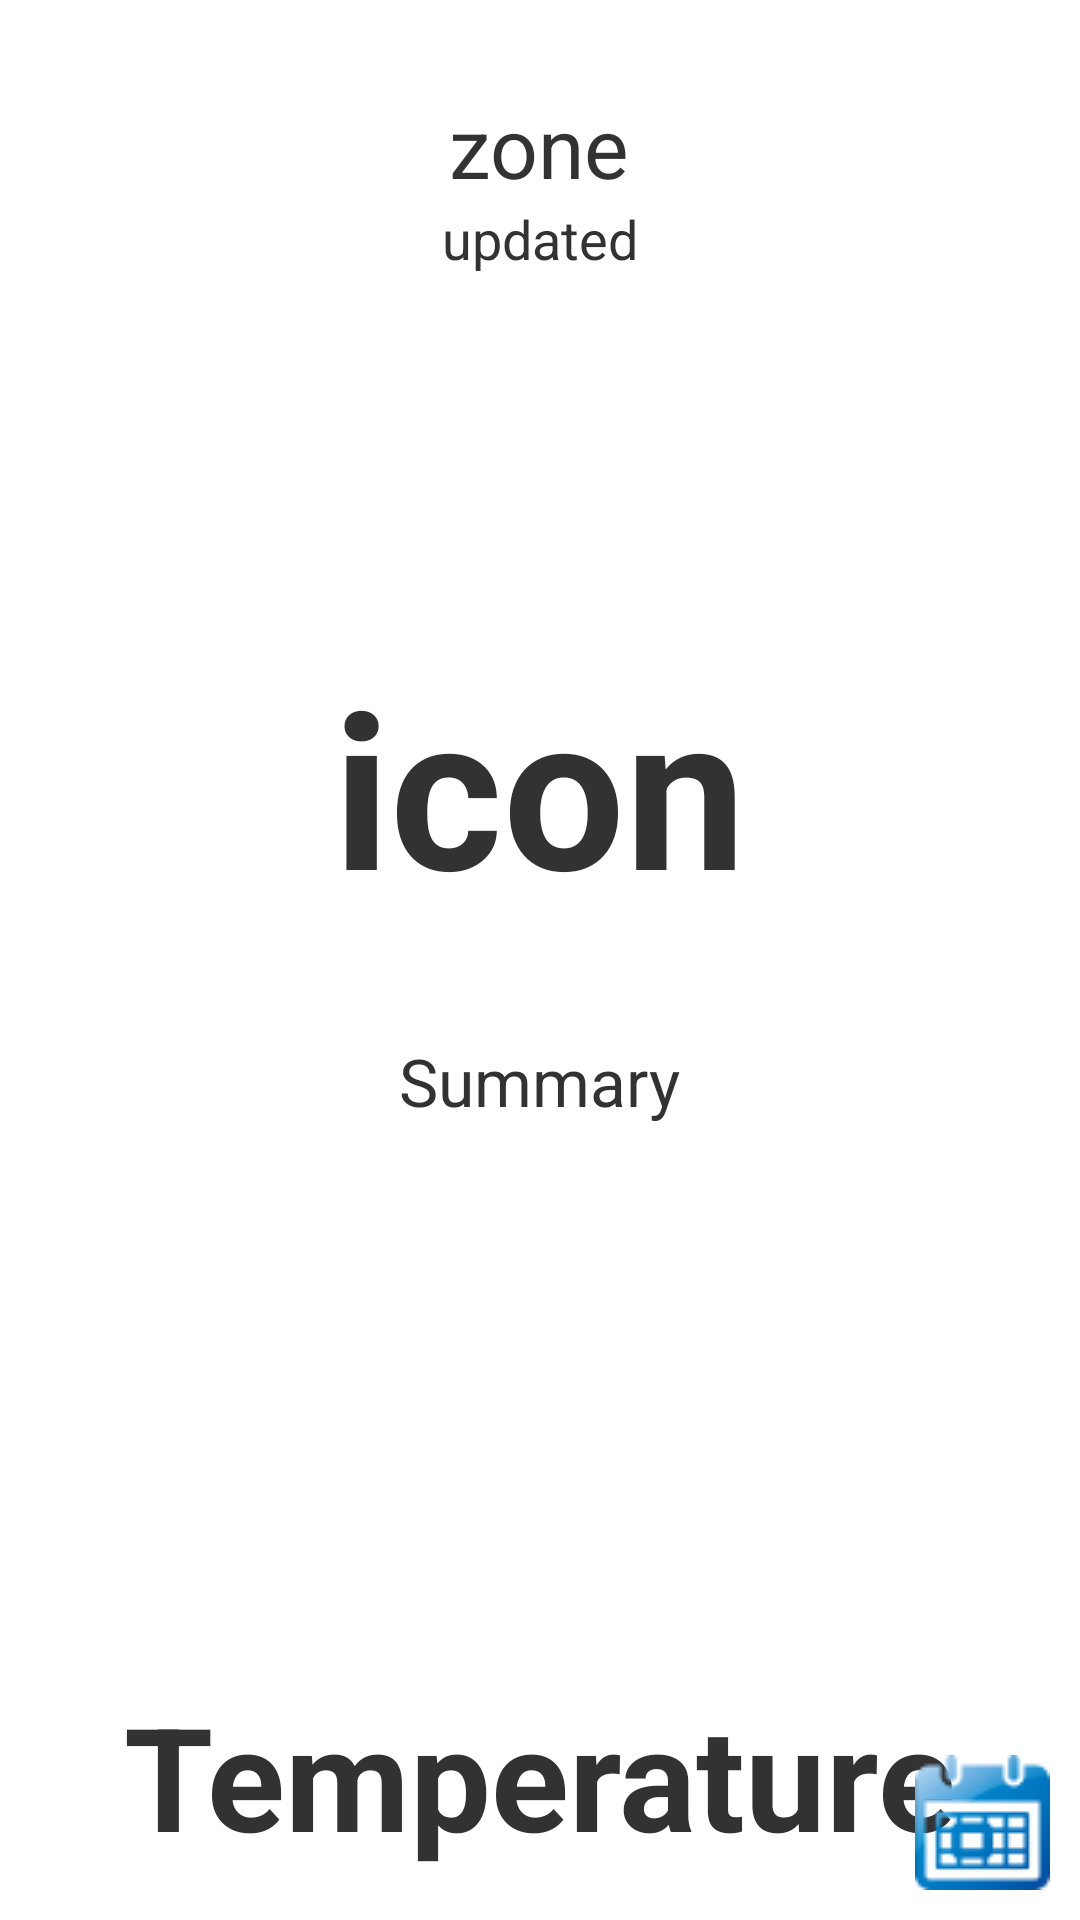

Where icons sit on this 1080px x 1920px app screen, as region(x1, y1, x2, y2):
cal: region(915, 1755, 1050, 1890)
